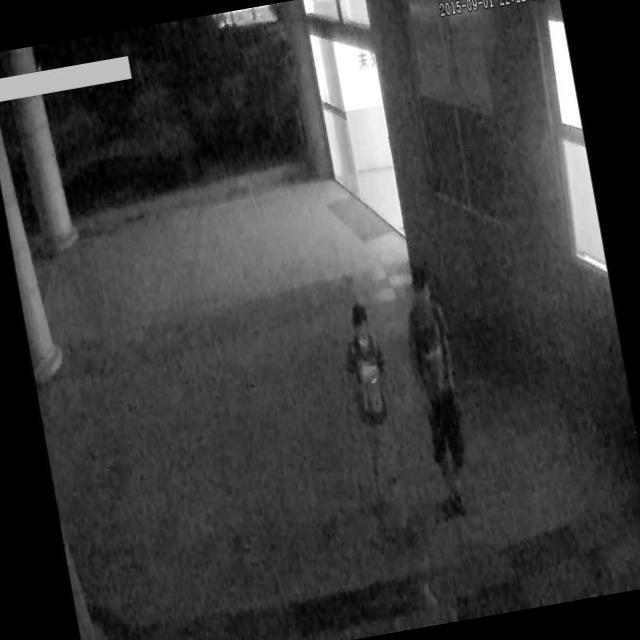person: (391, 259, 490, 517), (332, 298, 420, 545)
